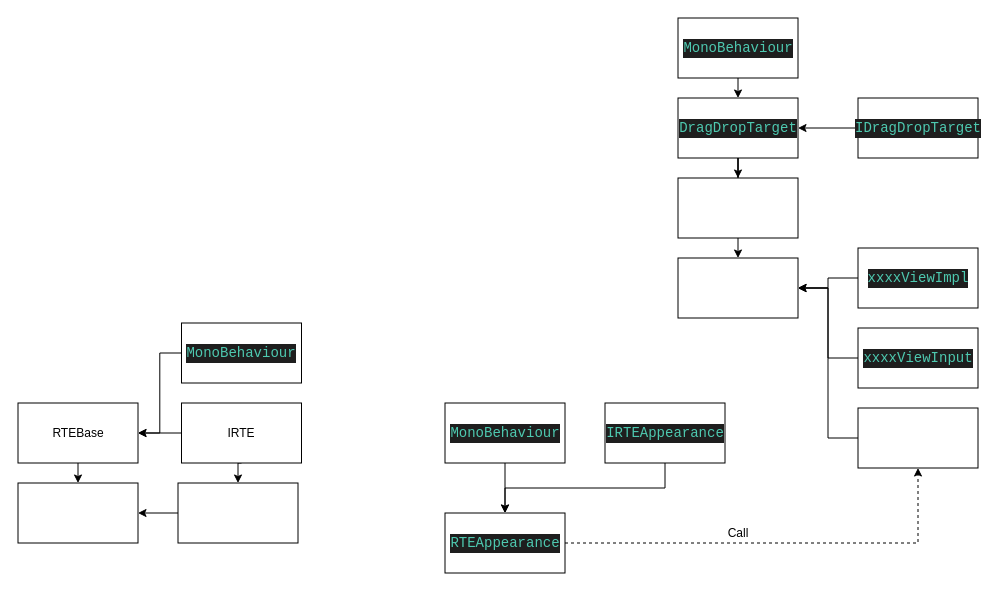
This 998x590 diagram has some shape labels left out. The centre of each missing label's shape, as x and y in pixels:
"IRuntimeEditor" belongs at (237,512).
"RuntimeEditor" belongs at (77,512).
"RuntimeWindow" belongs at (737,207).
"UIStyle" belongs at (917,437).
"XXXXView" belongs at (737,287).
